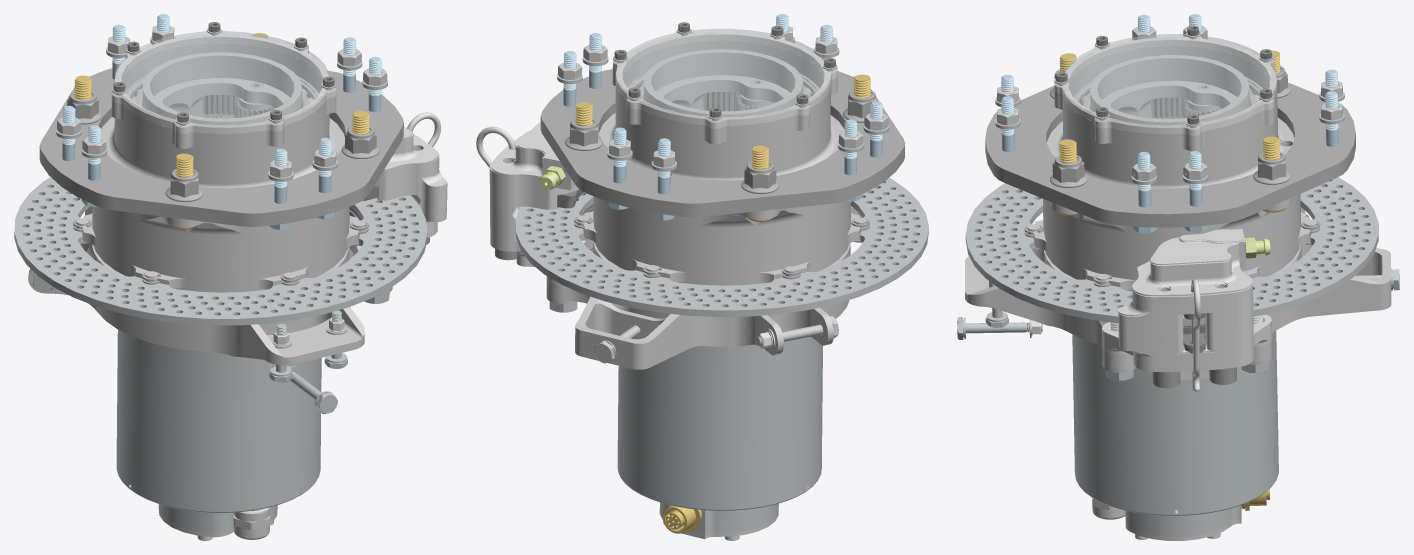
File: DT27_Rear_Asy.glb
The picture shows the model from 3 angles, left to right: view 1: azimuth 30°, elevation 25°; view 2: azimuth 150°, elevation 25°; view 3: azimuth 270°, elevation 25°; orthographic projection.
Visible parts, largest first — view 1: DT27_Hub, X01423-900_STATORGEHAEUSE_FE60-OA0, DI27_Brakes_RearRotor, DT27_ROTOBOX_Wheelcenter, DT27_Rear_Upright, DT27_Hub_Cap, DT27_Hub_Cap_Gasket, COMBINE1 (×6), BODY3, CUT-EXTRUDE2 (×3), X01423-901_LAB-OA3, 101180_M16 (+4 smaller); view 2: X01423-900_STATORGEHAEUSE_FE60-OA0, DT27_Hub, DI27_Brakes_RearRotor, DT27_Rear_Upright, DT27_ROTOBOX_Wheelcenter, DT27_Hub_Cap, BODY3 (×2), DT27_Hub_Cap_Gasket, CUT-EXTRUDE2 (×3), COMBINE1 (×3), X01423-901_LAB-OA3, BODY1 (×2) (+5 smaller); view 3: X01423-900_STATORGEHAEUSE_FE60-OA0, DT27_Hub, DI27_Brakes_RearRotor, DT27_ROTOBOX_Wheelcenter, DT27_Rear_Upright, DT27_Hub_Cap, BODY3 (×2), BODY1, DT27_Hub_Cap_Gasket, X01423-901_LAB-OA3, CUT-EXTRUDE2 (×2), COMBINE1 (×2) (+4 smaller).
Boxes of the visible parts, x1,y1,x2,y2 form: DT27_Hub: (82,43,378,292); X01423-900_STATORGEHAEUSE_FE60-OA0: (116,329,321,512); DI27_Brakes_RearRotor: (14,177,427,325); DT27_ROTOBOX_Wheelcenter: (39,68,403,226); DT27_Rear_Upright: (28,52,391,365); DT27_Hub_Cap: (112,30,336,127); DT27_Hub_Cap_Gasket: (111,32,336,133); COMBINE1 (×6): (62,37,381,229); BODY3: (374,127,446,203); CUT-EXTRUDE2 (×3): (67,91,379,201); X01423-901_LAB-OA3: (158,504,277,533); 101180_M16: (233,507,269,539); X01423-900_STATORGEHAEUSE_FE60-OA0: (617,337,822,510); DT27_Hub: (564,40,860,285); DI27_Brakes_RearRotor: (515,177,928,316); DT27_Rear_Upright: (546,49,861,369); DT27_ROTOBOX_Wheelcenter: (540,69,905,217); DT27_Hub_Cap: (613,28,837,122); BODY3 (×2): (489,121,579,212); DT27_Hub_Cap_Gasket: (612,32,837,128); CUT-EXTRUDE2 (×3): (565,90,875,193); COMBINE1 (×3): (608,119,862,220); X01423-901_LAB-OA3: (659,502,778,535); BODY1 (×2): (490,206,592,285); X01423-900_STATORGEHAEUSE_FE60-OA0: (1072,331,1278,515); DT27_Hub: (1034,46,1310,291); DI27_Brakes_RearRotor: (965,177,1378,324); DT27_ROTOBOX_Wheelcenter: (985,82,1355,227); DT27_Rear_Upright: (965,55,1391,369); DT27_Hub_Cap: (1054,33,1276,129); BODY3 (×2): (1118,229,1253,334); BODY1: (1102,314,1272,380); DT27_Hub_Cap_Gasket: (1054,36,1277,135); X01423-901_LAB-OA3: (1125,505,1241,536); CUT-EXTRUDE2 (×2): (1050,152,1291,187); COMBINE1 (×2): (1133,151,1208,233).
Size of the model in its own units: 0.223 by 0.2335 by 0.2076.
